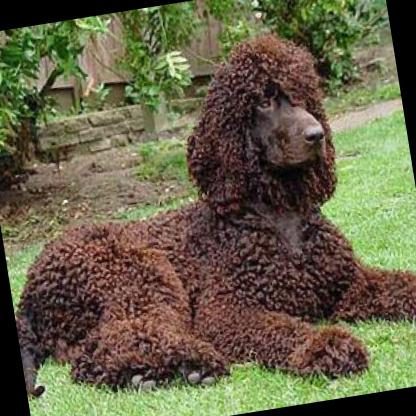Irish_water_spaniel: (0, 18, 416, 416)
